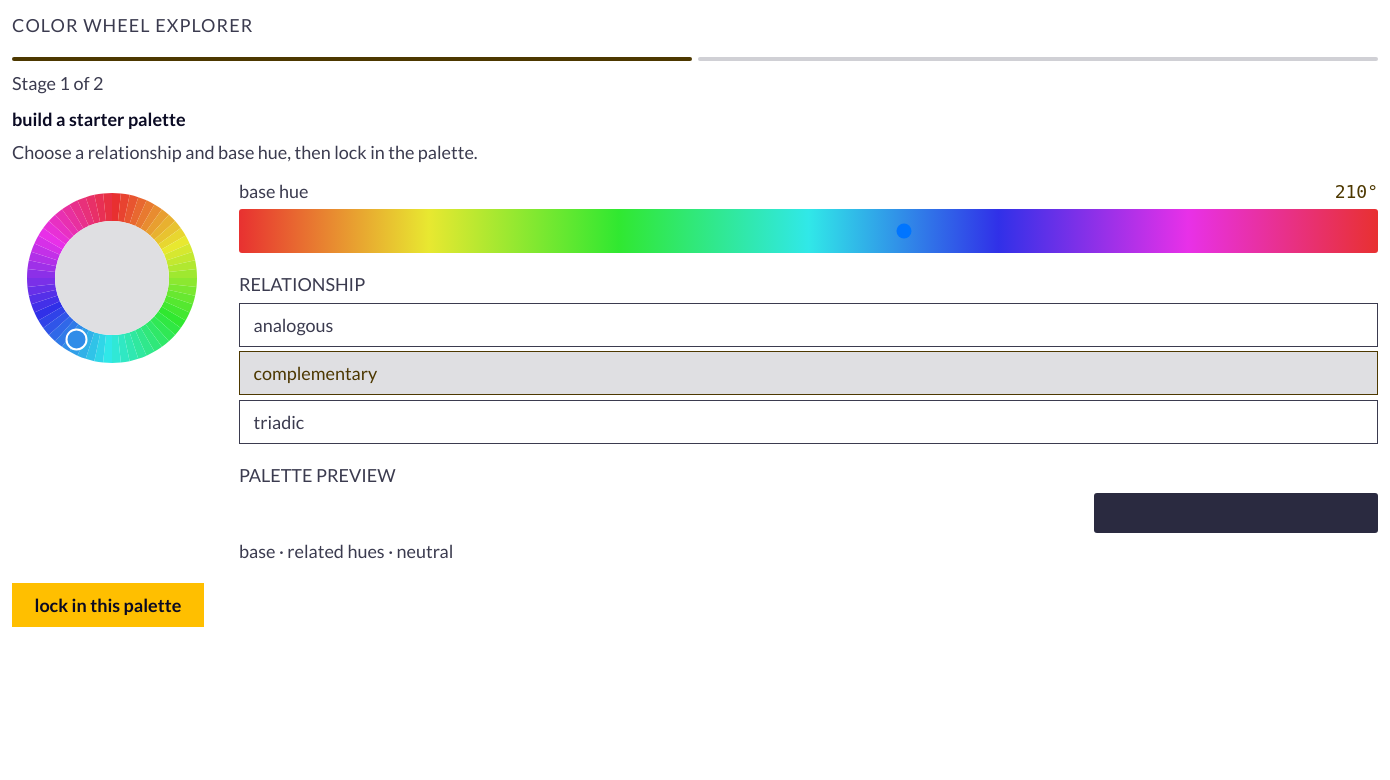
Test case: ColorWheelTool reflection completion gating › does not allow completion after an incorrect reflection answer
The image size is (1390, 780).
Step 1. Click the button "lock in this palette" → click(108, 605), box [12,583,204,627]
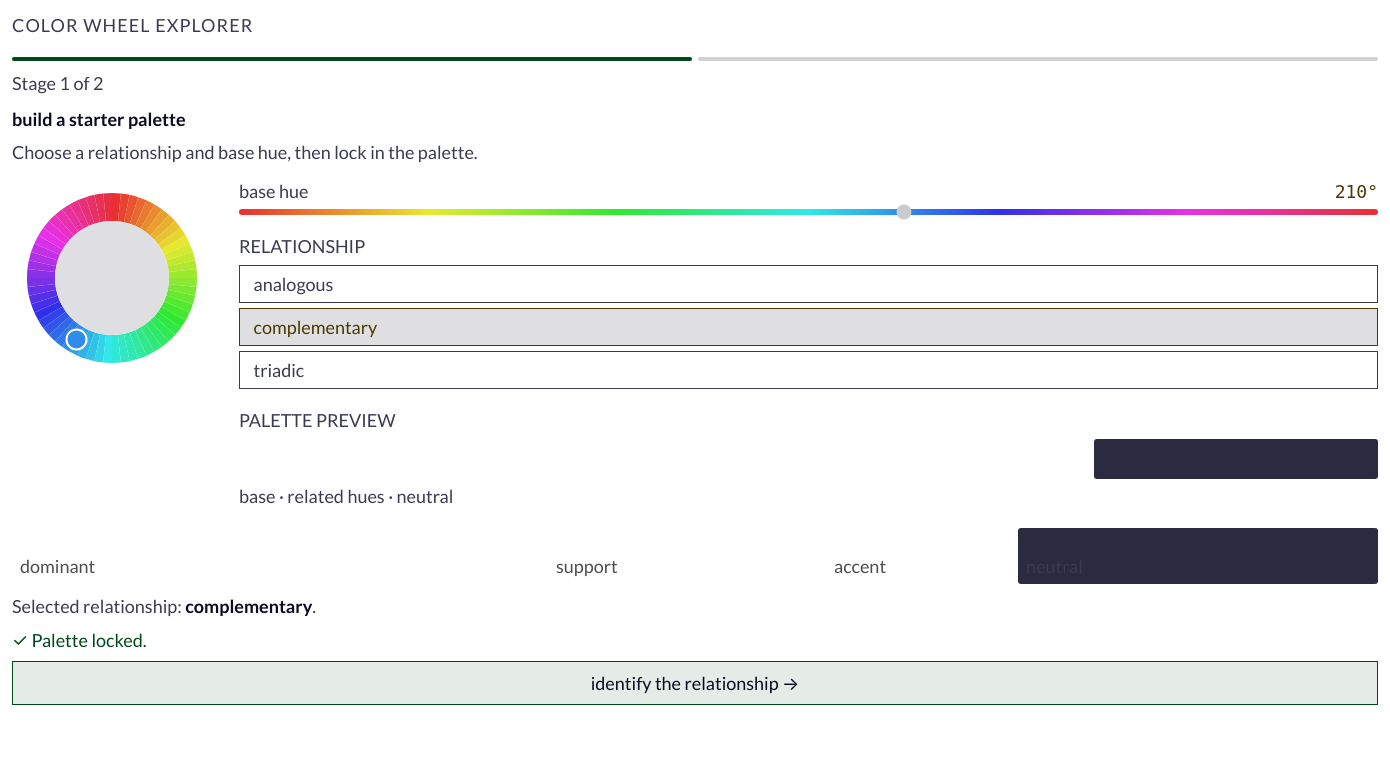
Step 2. Click the button "identify the relationship →" → click(695, 684), box [12,662,1378,706]
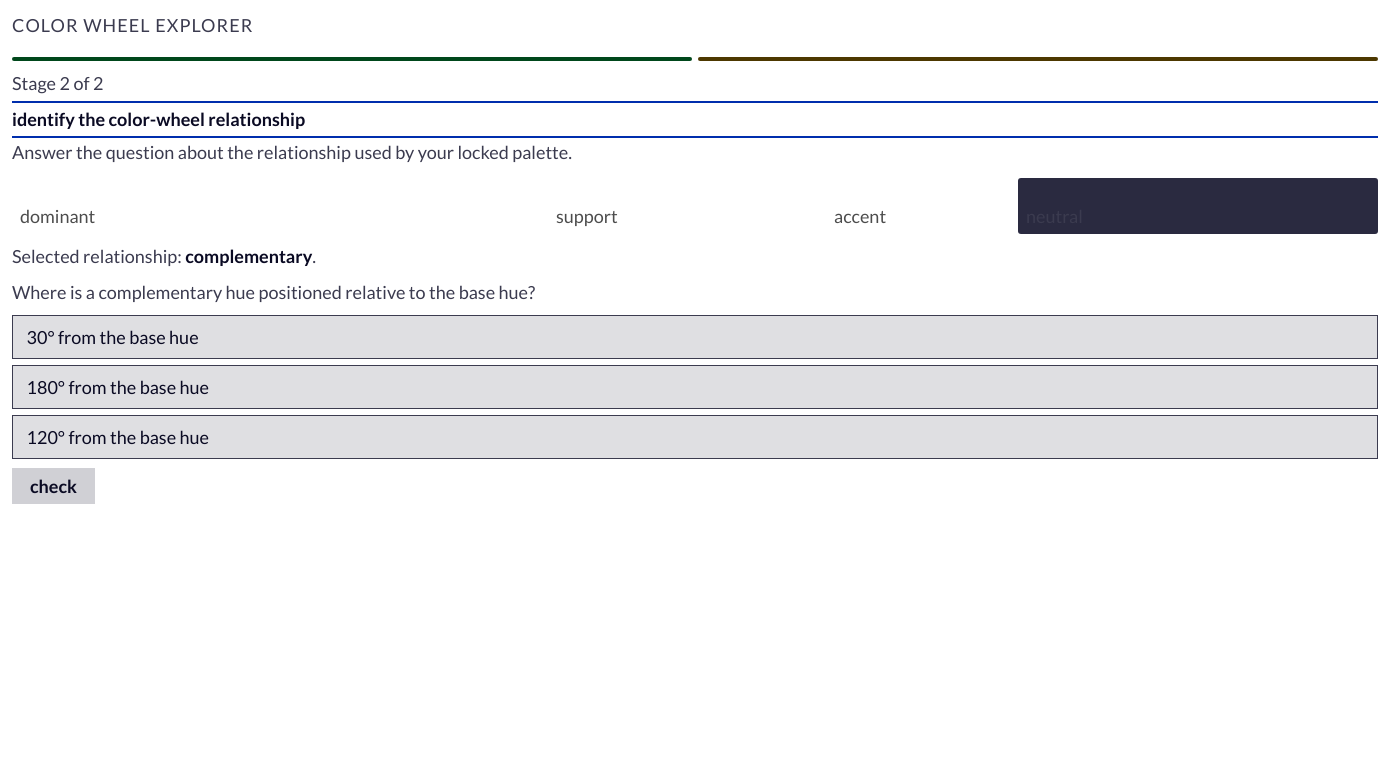
Step 3. Click the button "30° from the base hue" → click(113, 337), box [12,315,1378,359]
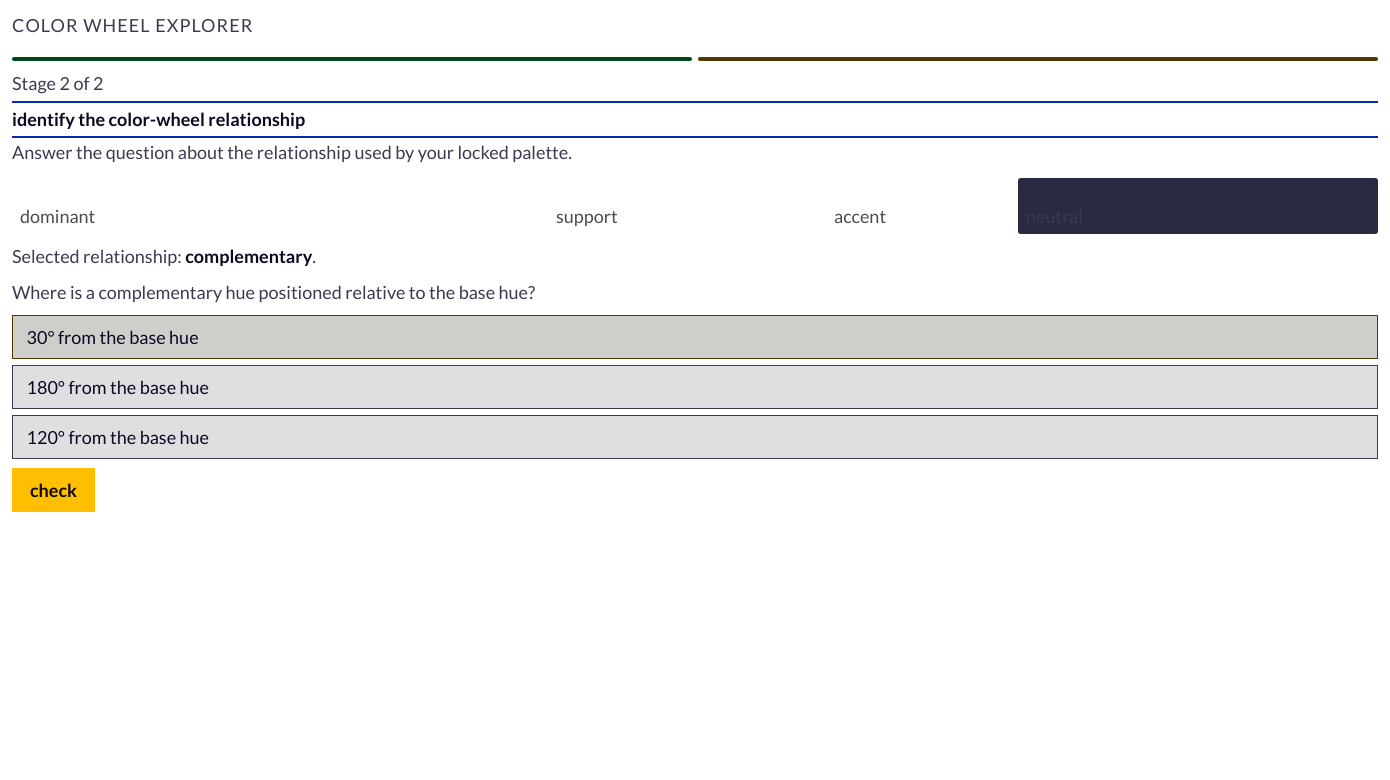
Step 4. Click the button "check" → click(54, 490), box [12,468,95,512]
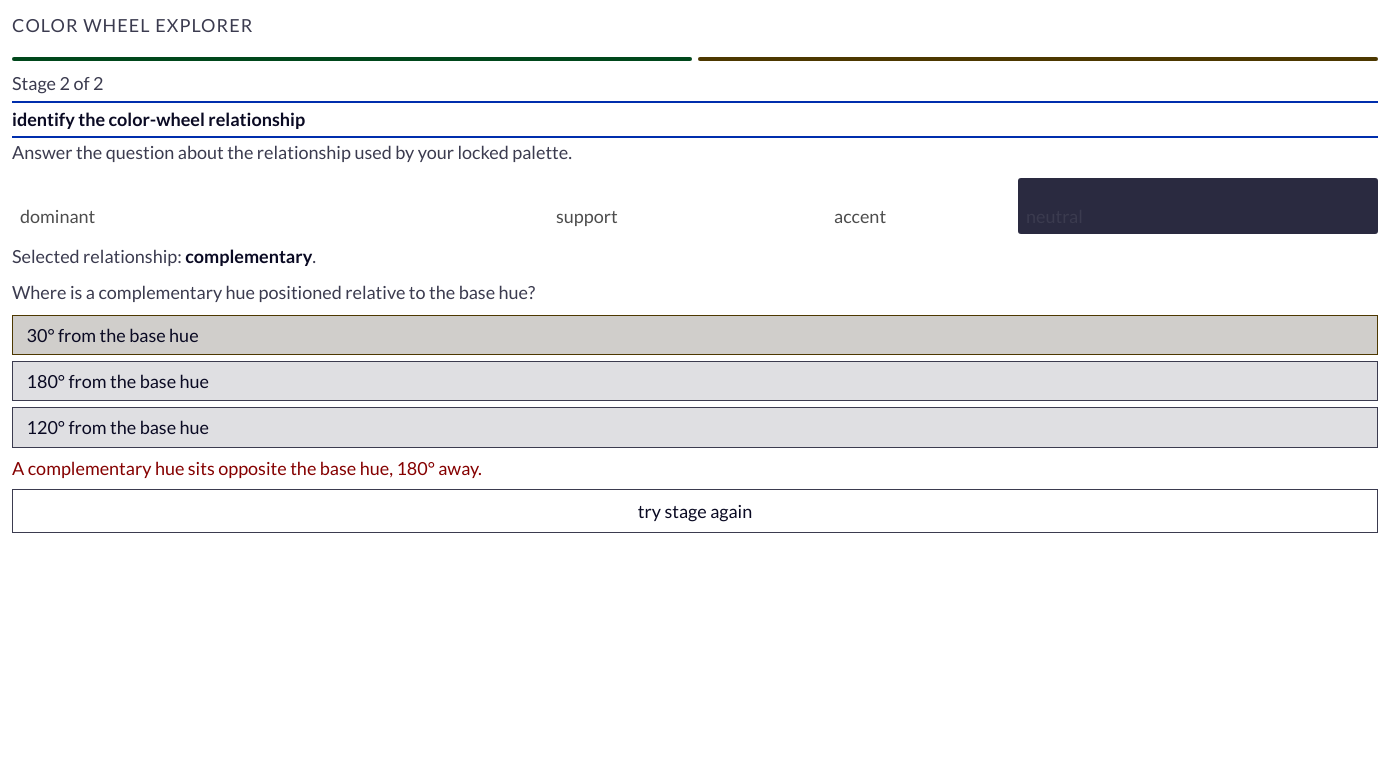
Expected: the text "Stage 2 of 2" is shown, [12,72,103,94]
Expected: the button "try stage again" is shown, [12,489,1378,533]
